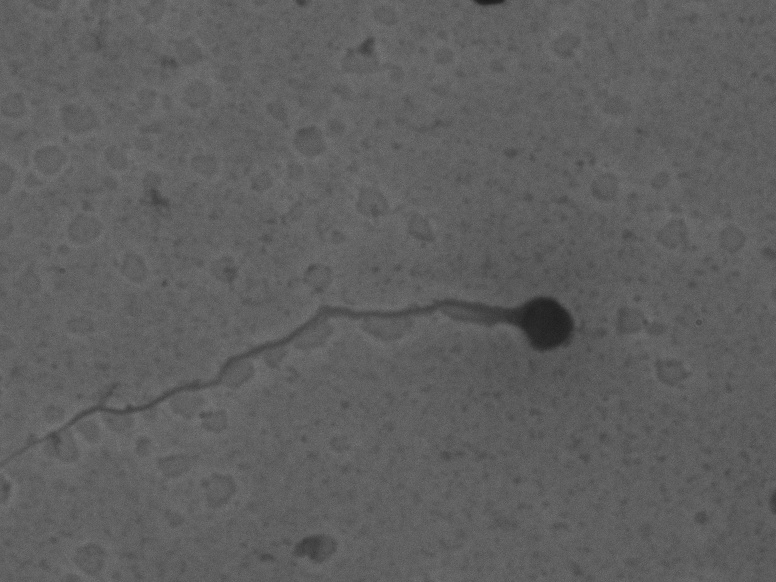Abnormal: (5, 279, 585, 469)
